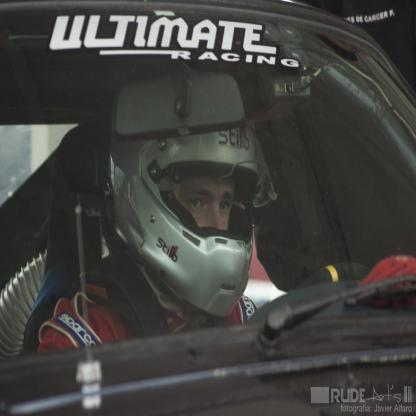Helmet: (101, 120, 280, 321)
